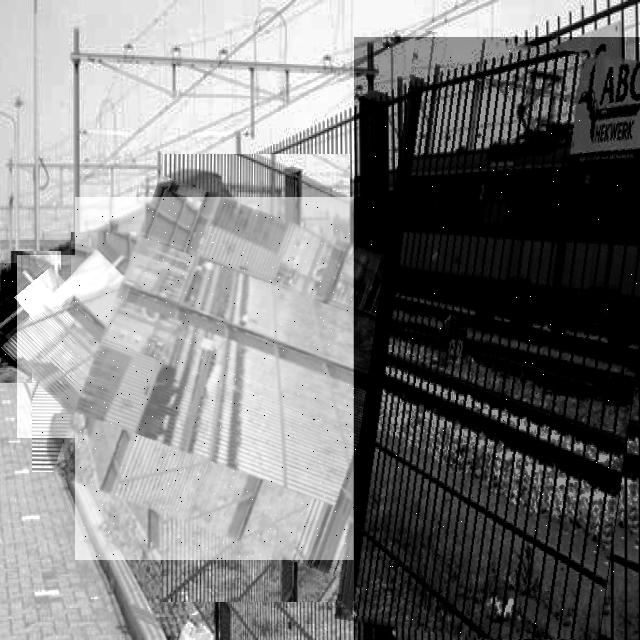fences: (354, 37, 640, 640), (75, 197, 437, 560), (17, 255, 199, 438), (0, 263, 90, 368)
